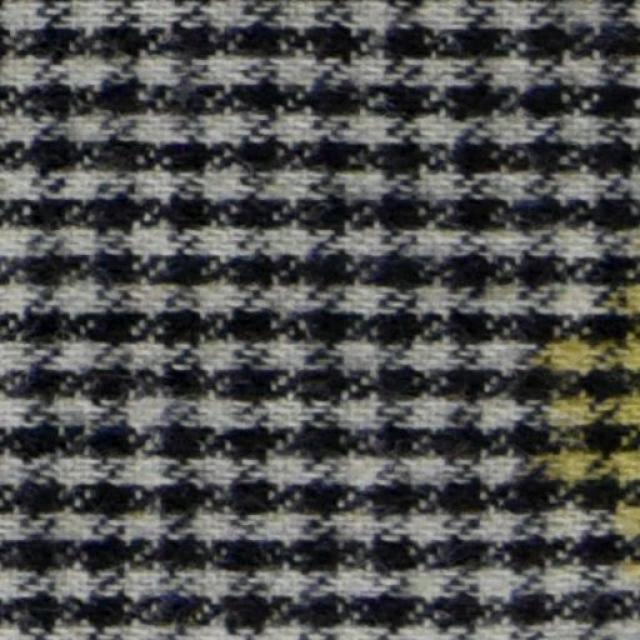Stain: (499, 261, 639, 587)
